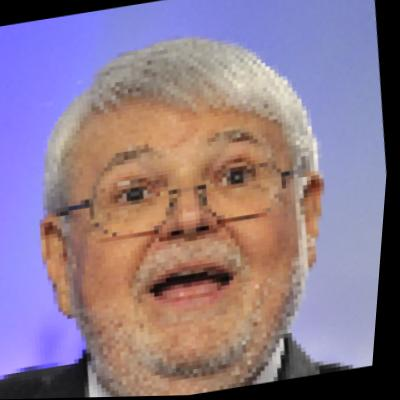surprise: (44, 64, 340, 394)
